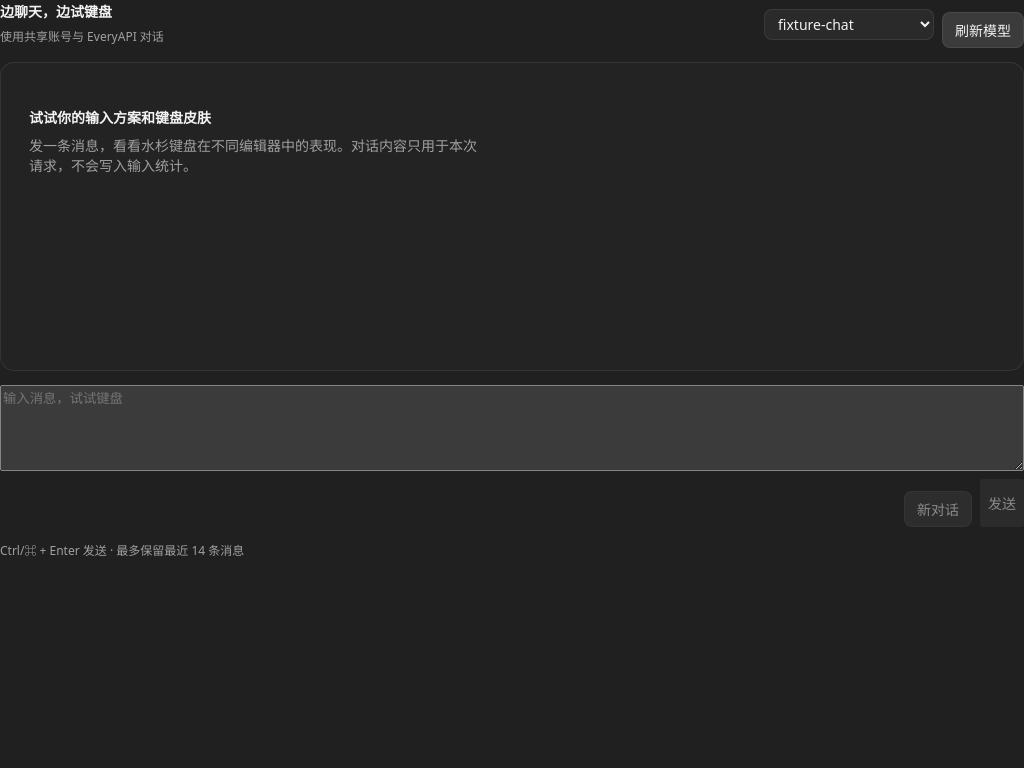
loads models, sends a message, and starts a new conversation
This screenshot has width=1024, height=768.
Select "fixture-fast" in the dropdown named "聊天模型" at x=849, y=24, box [764,8,934,40]
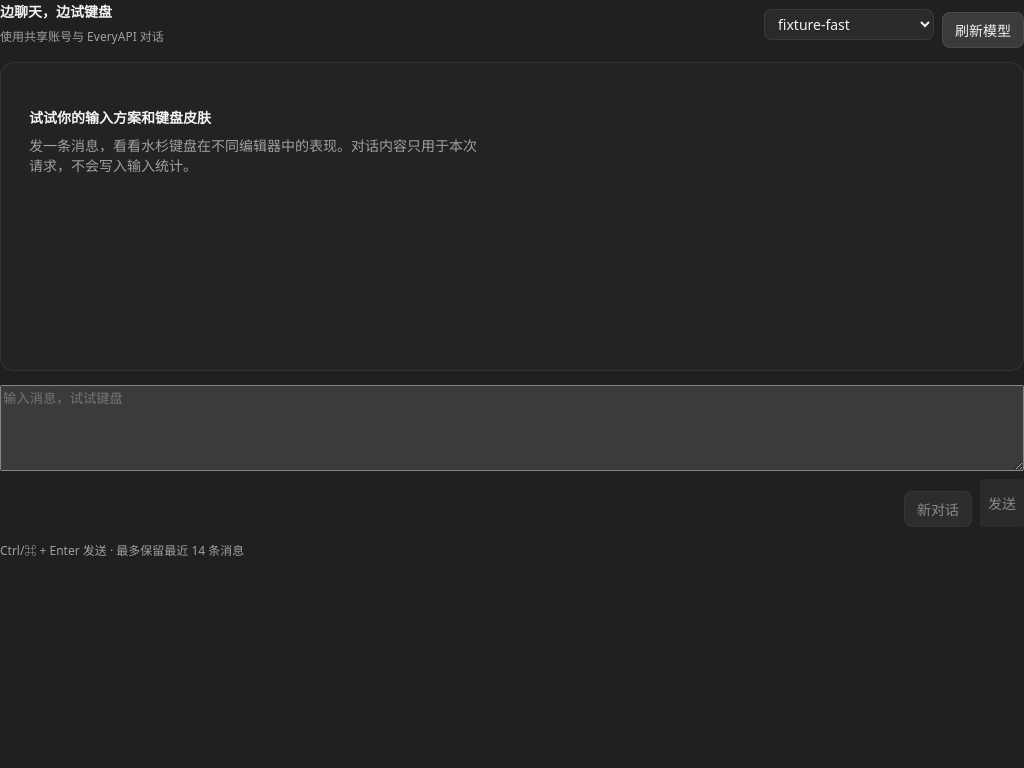
Type "fixture prompt" into the text box named "聊天消息".
click(512, 428); type("fixture prompt")  # box [0,385,1023,471]
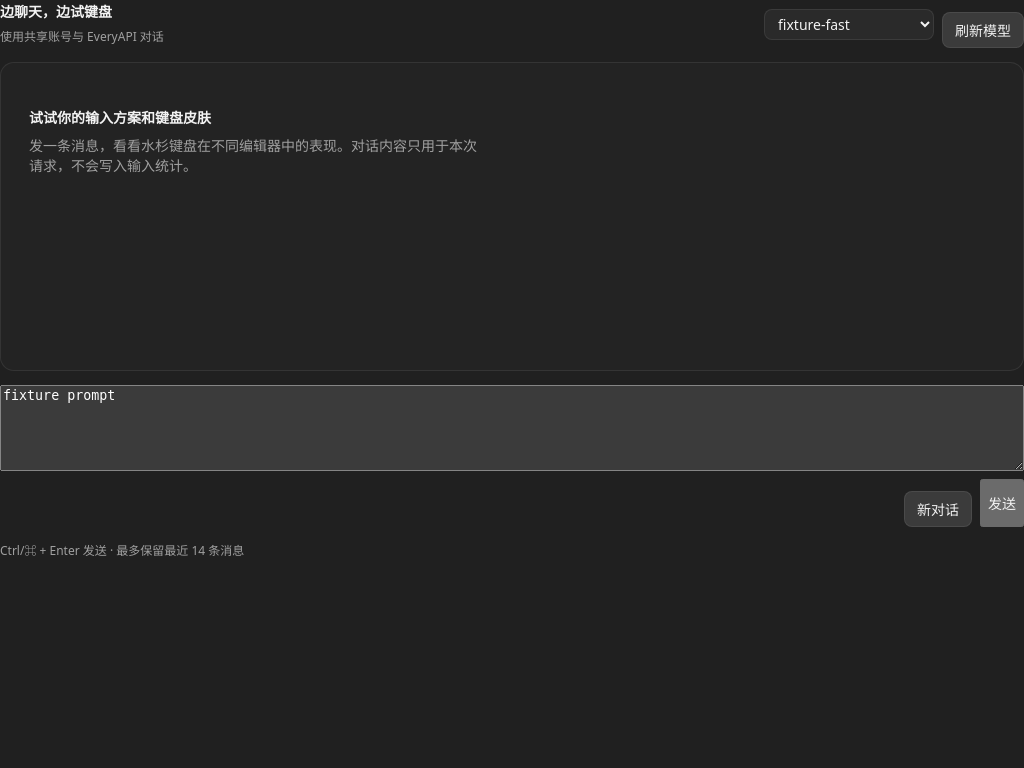
Click the button "发送".
click(1002, 503)  # box [980,479,1023,527]
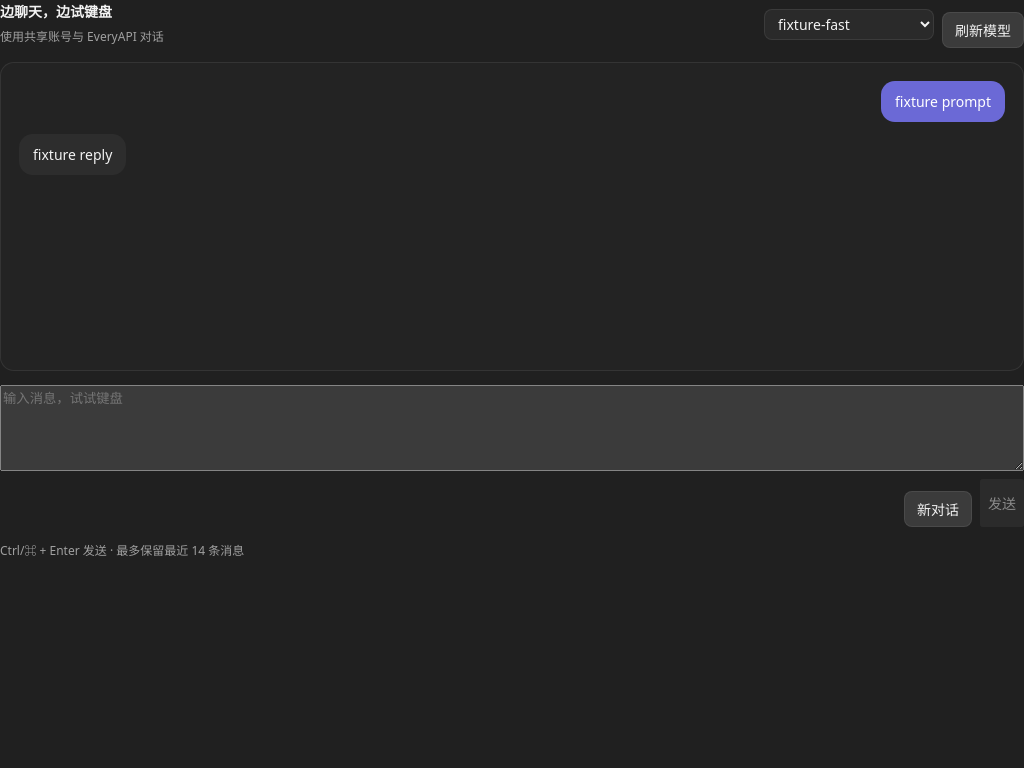
Now the text "fixture reply" is shown, box [19,134,126,175]
Click the button "新对话".
click(938, 509)  # box [904,491,972,527]
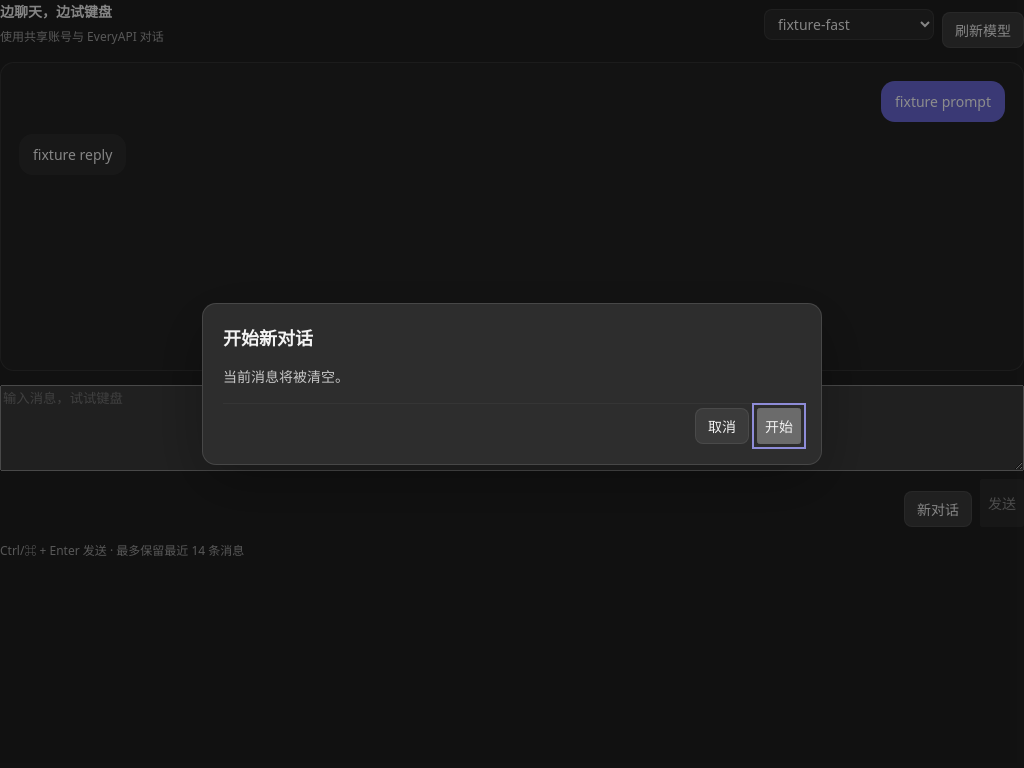
Now the text "fixture prompt" is shown, box [881,81,1005,122]
Click the button "开始".
click(779, 426)  # box [757,408,801,444]
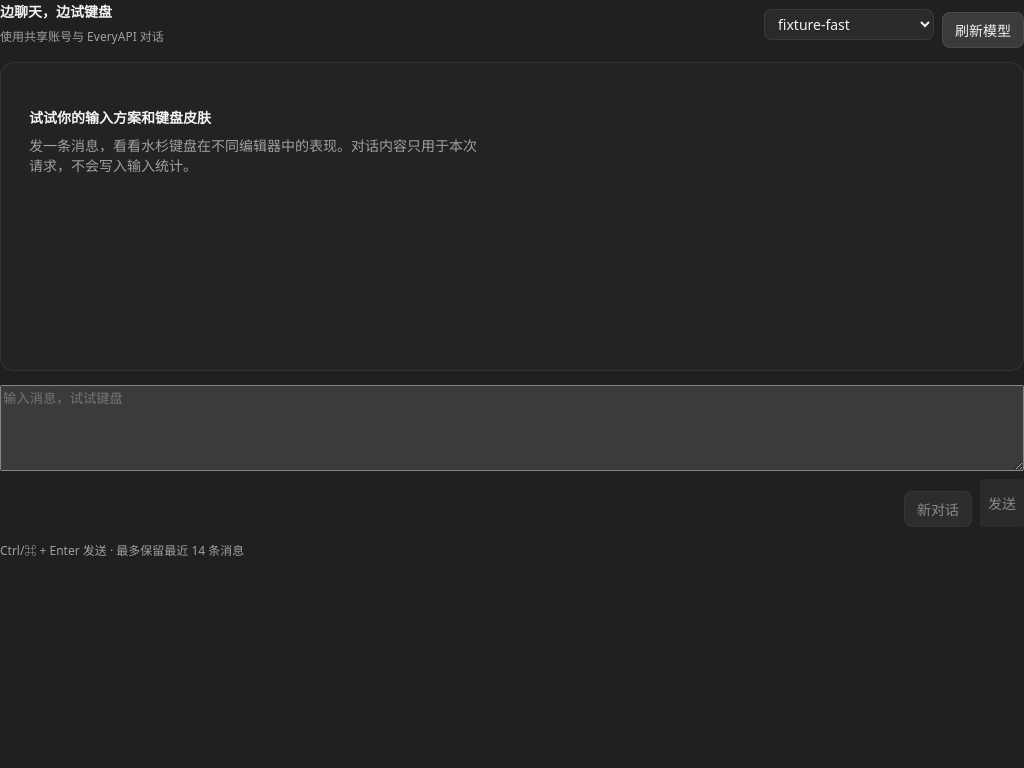
Now the dialog is gone
Now the text "fixture prompt" is gone
Now the text "fixture reply" is gone
